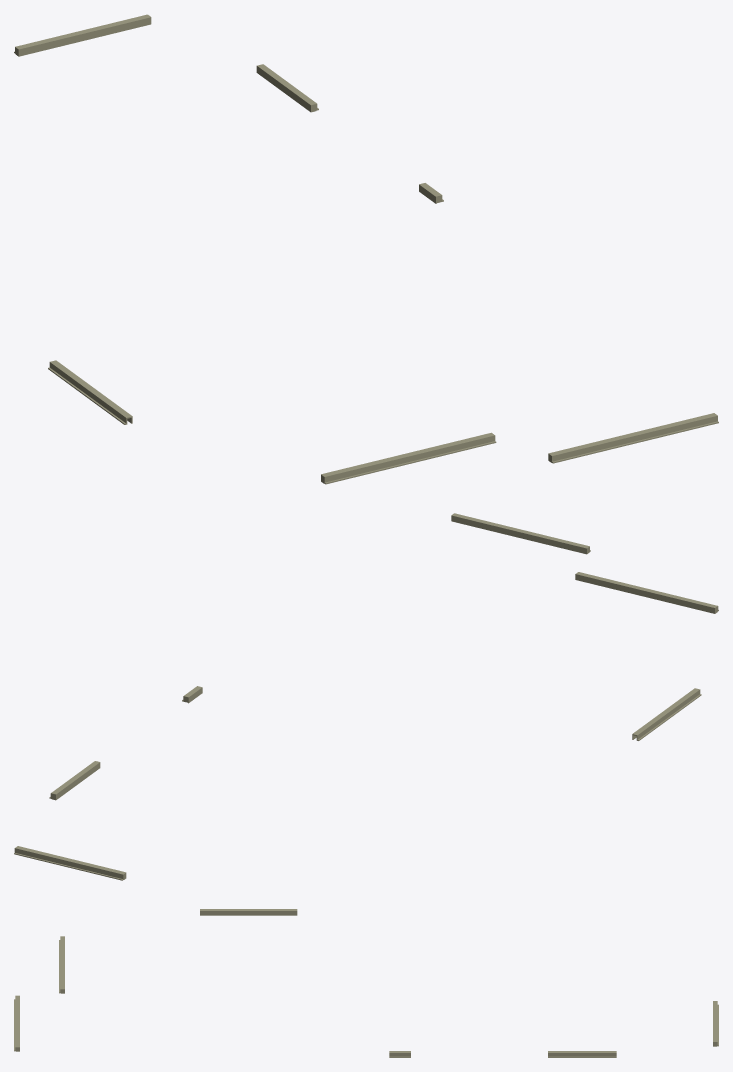
Rendered from curtain_box.FBX.
3 views of the same model, one above another, from view 1: azimuth 30°, elevation 25°; view 2: azimuth 150°, elevation 25°; view 3: azimuth 270°, elevation 25° (orthographic). The views are drawn at different scales.
Parts seen in each view (by area): view 1: 58:1:2D; view 2: 58:1:2D; view 3: 58:1:2D.
Part boxes in pixels (box(x1,y1,x2,y2)): 58:1:2D: box(14, 14, 718, 484); 58:1:2D: box(14, 513, 718, 880); 58:1:2D: box(14, 909, 718, 1057).
Size of the model in its own units: 428 by 6.3 by 879.
